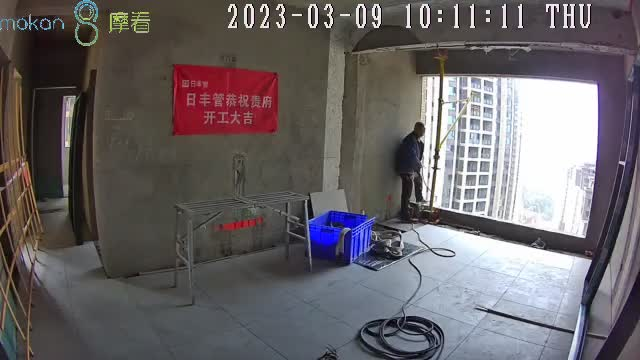people: (398, 121, 427, 222)
window: (419, 76, 600, 239)
